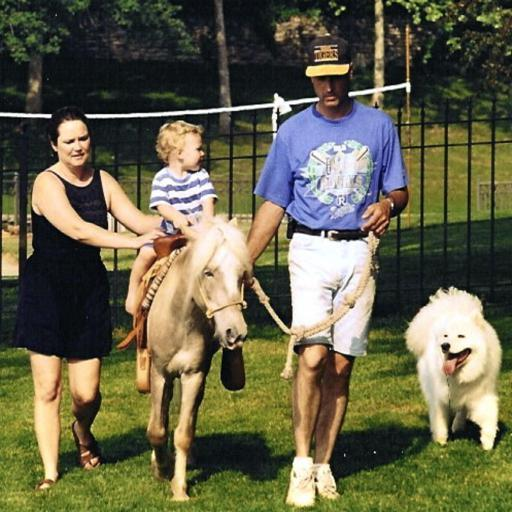horse: (128, 212, 252, 502)
